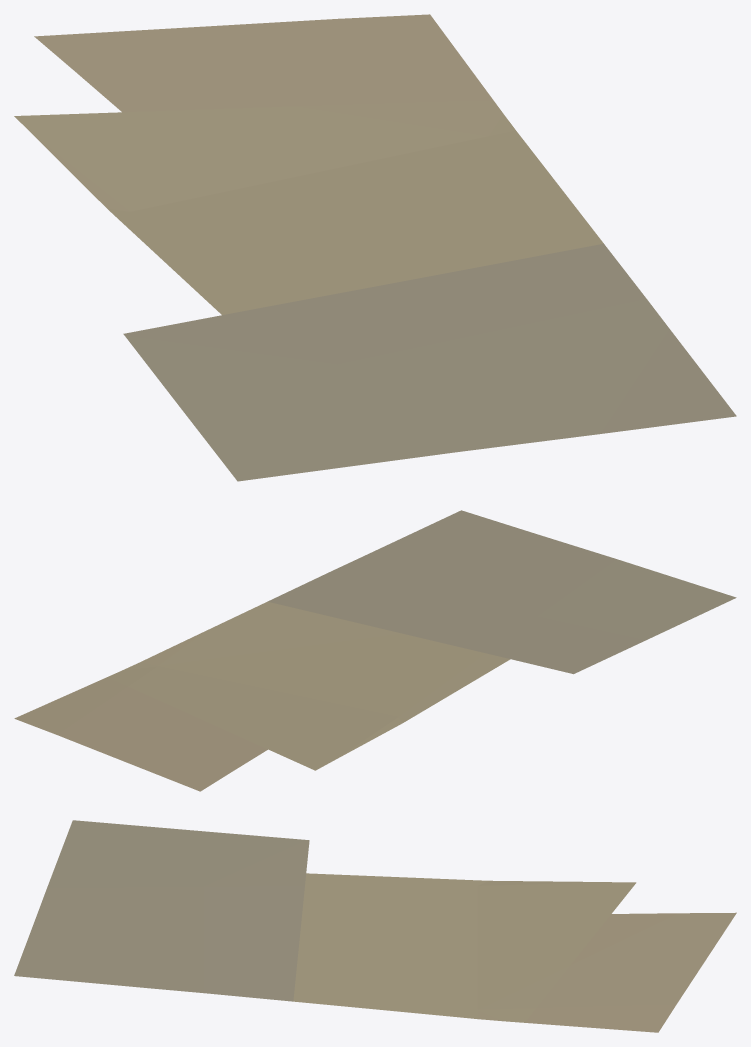
File: farm_-4_9_soil.glb
The picture shows the model from 3 angles, top to bottom: view 1: azimuth 30°, elevation 25°; view 2: azimuth 150°, elevation 25°; view 3: azimuth 270°, elevation 25°; orthographic projection. The views are drawn at different scales.
Parts seen in each view (by area): view 1: geometry_0; view 2: geometry_0; view 3: geometry_0.
Boxes of the visible parts, <box> form: geometry_0: <box>14,14,736,481</box>; geometry_0: <box>14,510,736,791</box>; geometry_0: <box>14,820,736,1032</box>.
Size of the model in its own units: 142 by 4.44 by 211.
